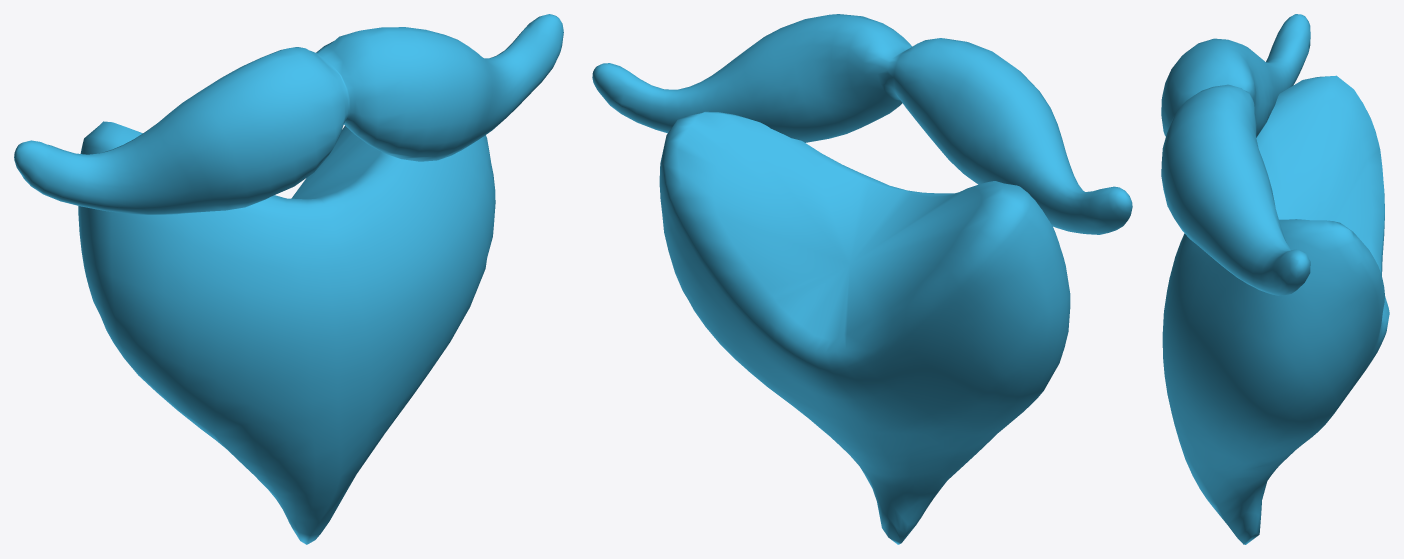
Rendered from beard.glb.
3 views of the same model, side by side, from view 1: azimuth 30°, elevation 25°; view 2: azimuth 150°, elevation 25°; view 3: azimuth 270°, elevation 25° (orthographic). The views are drawn at different scales.
Parts seen in each view (by area): view 1: beard.1; view 2: beard.1; view 3: beard.1.
Part boxes in pixels (x1,y1,x2,y2): beard.1: (14, 14, 563, 544); beard.1: (592, 14, 1132, 544); beard.1: (1161, 14, 1389, 544).
Bounding box in the file's own units: 0.5931 × 0.5286 × 0.2292.
1 material, 1 textured.
